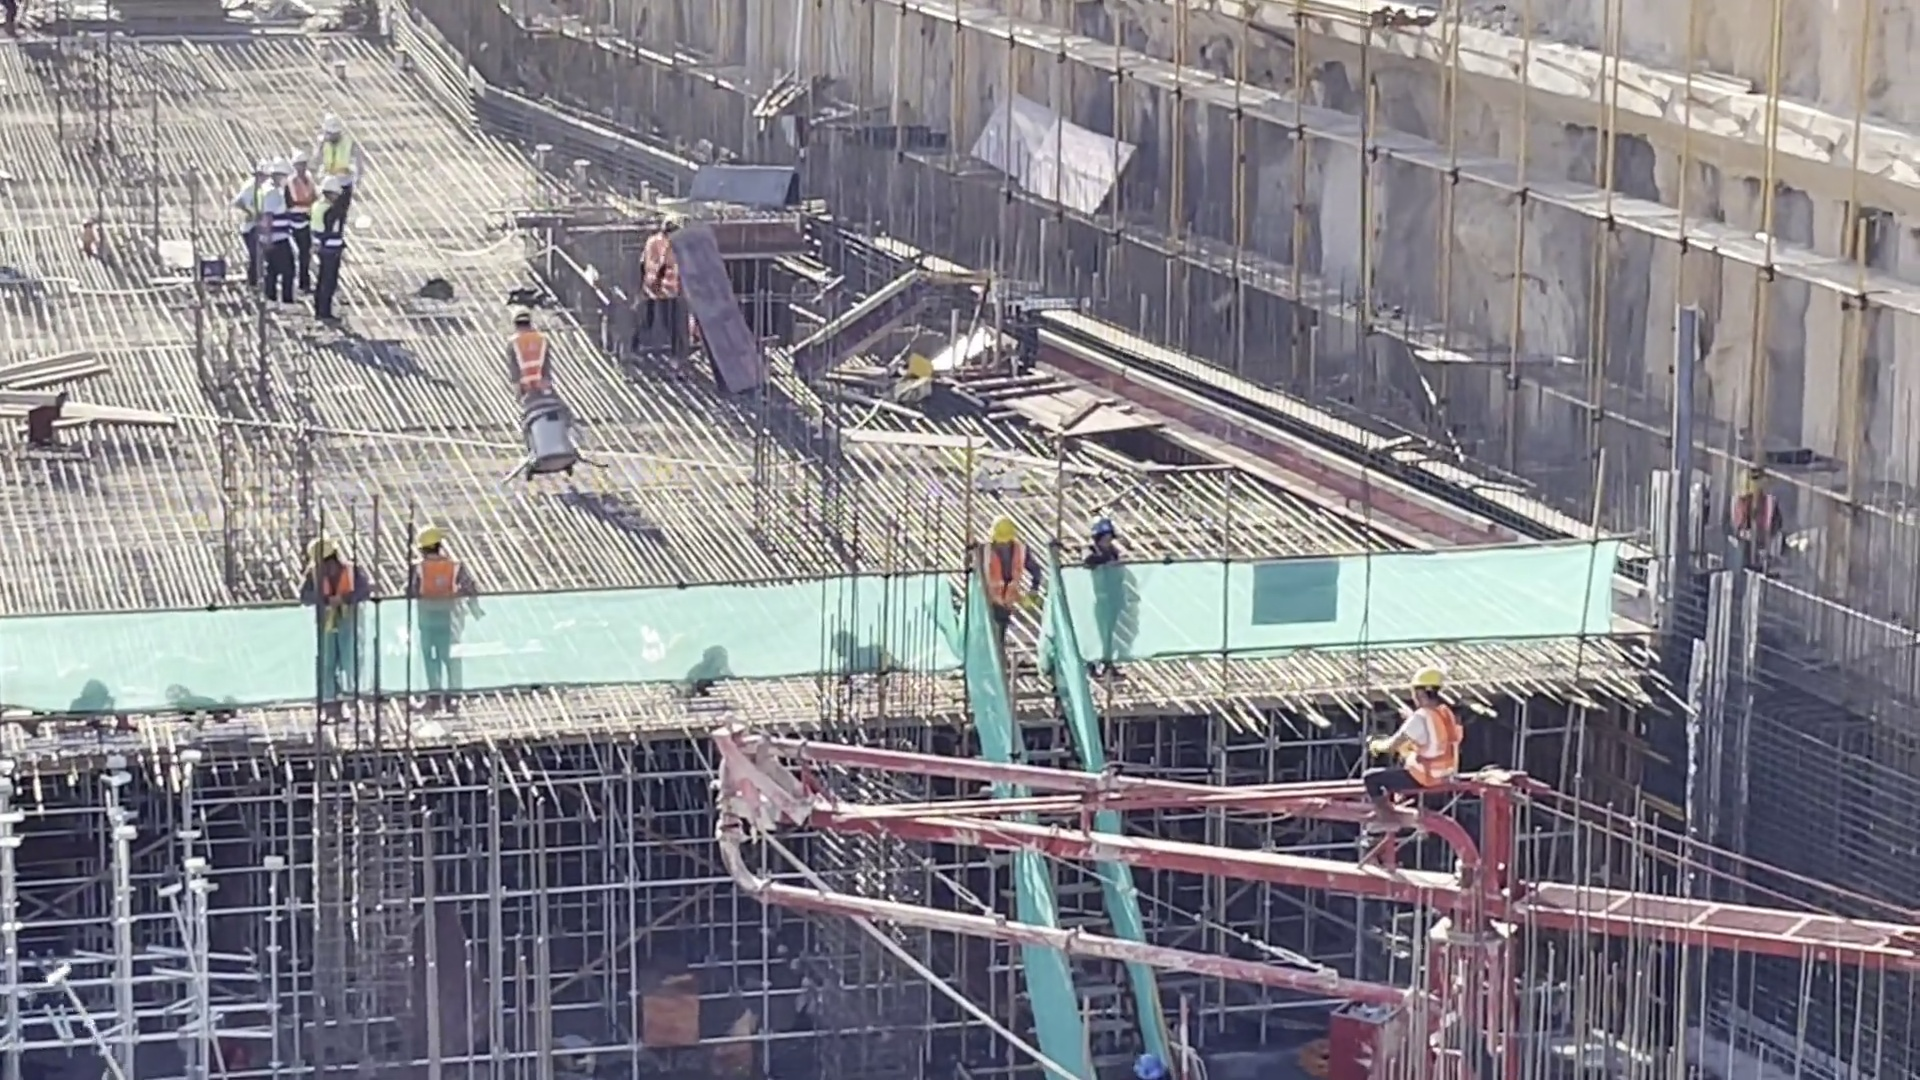helmet: (233, 135, 350, 191), (984, 506, 1024, 544), (1416, 670, 1468, 699), (417, 520, 449, 545), (1087, 515, 1115, 539), (503, 300, 537, 320)
person: (244, 156, 349, 326), (1364, 668, 1460, 837), (302, 530, 374, 704), (401, 524, 470, 705), (981, 506, 1038, 657), (1082, 513, 1131, 683), (502, 299, 557, 414), (634, 210, 690, 315), (316, 103, 348, 190)
vest: (1397, 710, 1457, 783), (976, 544, 1033, 610), (503, 343, 560, 393), (645, 237, 680, 303), (405, 558, 475, 590)
